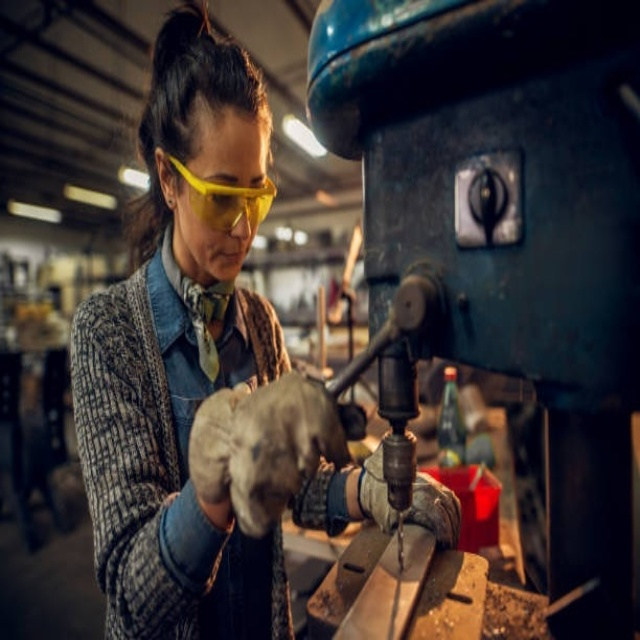Gafas: (164, 152, 278, 235)
Guantes: (188, 368, 350, 539), (355, 441, 465, 548)
Sin_mascara: (201, 242, 252, 278)
